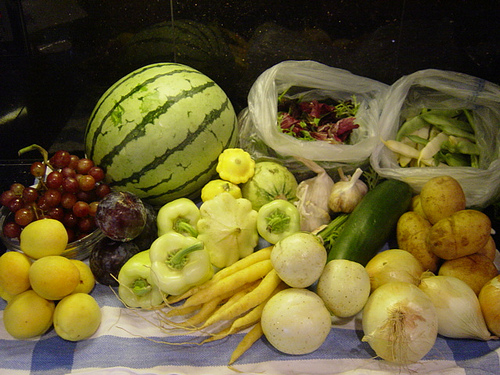cucumber: (328, 180, 411, 267)
